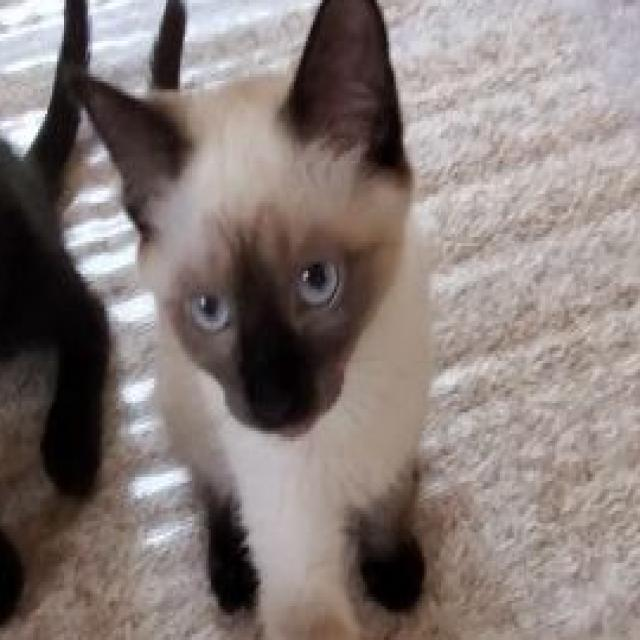Siamese: (62, 0, 436, 640)
